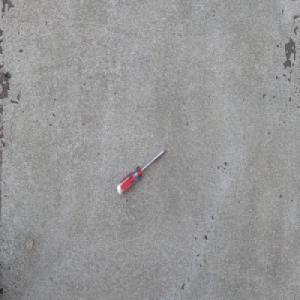Screwdriver: (116, 147, 167, 195)
